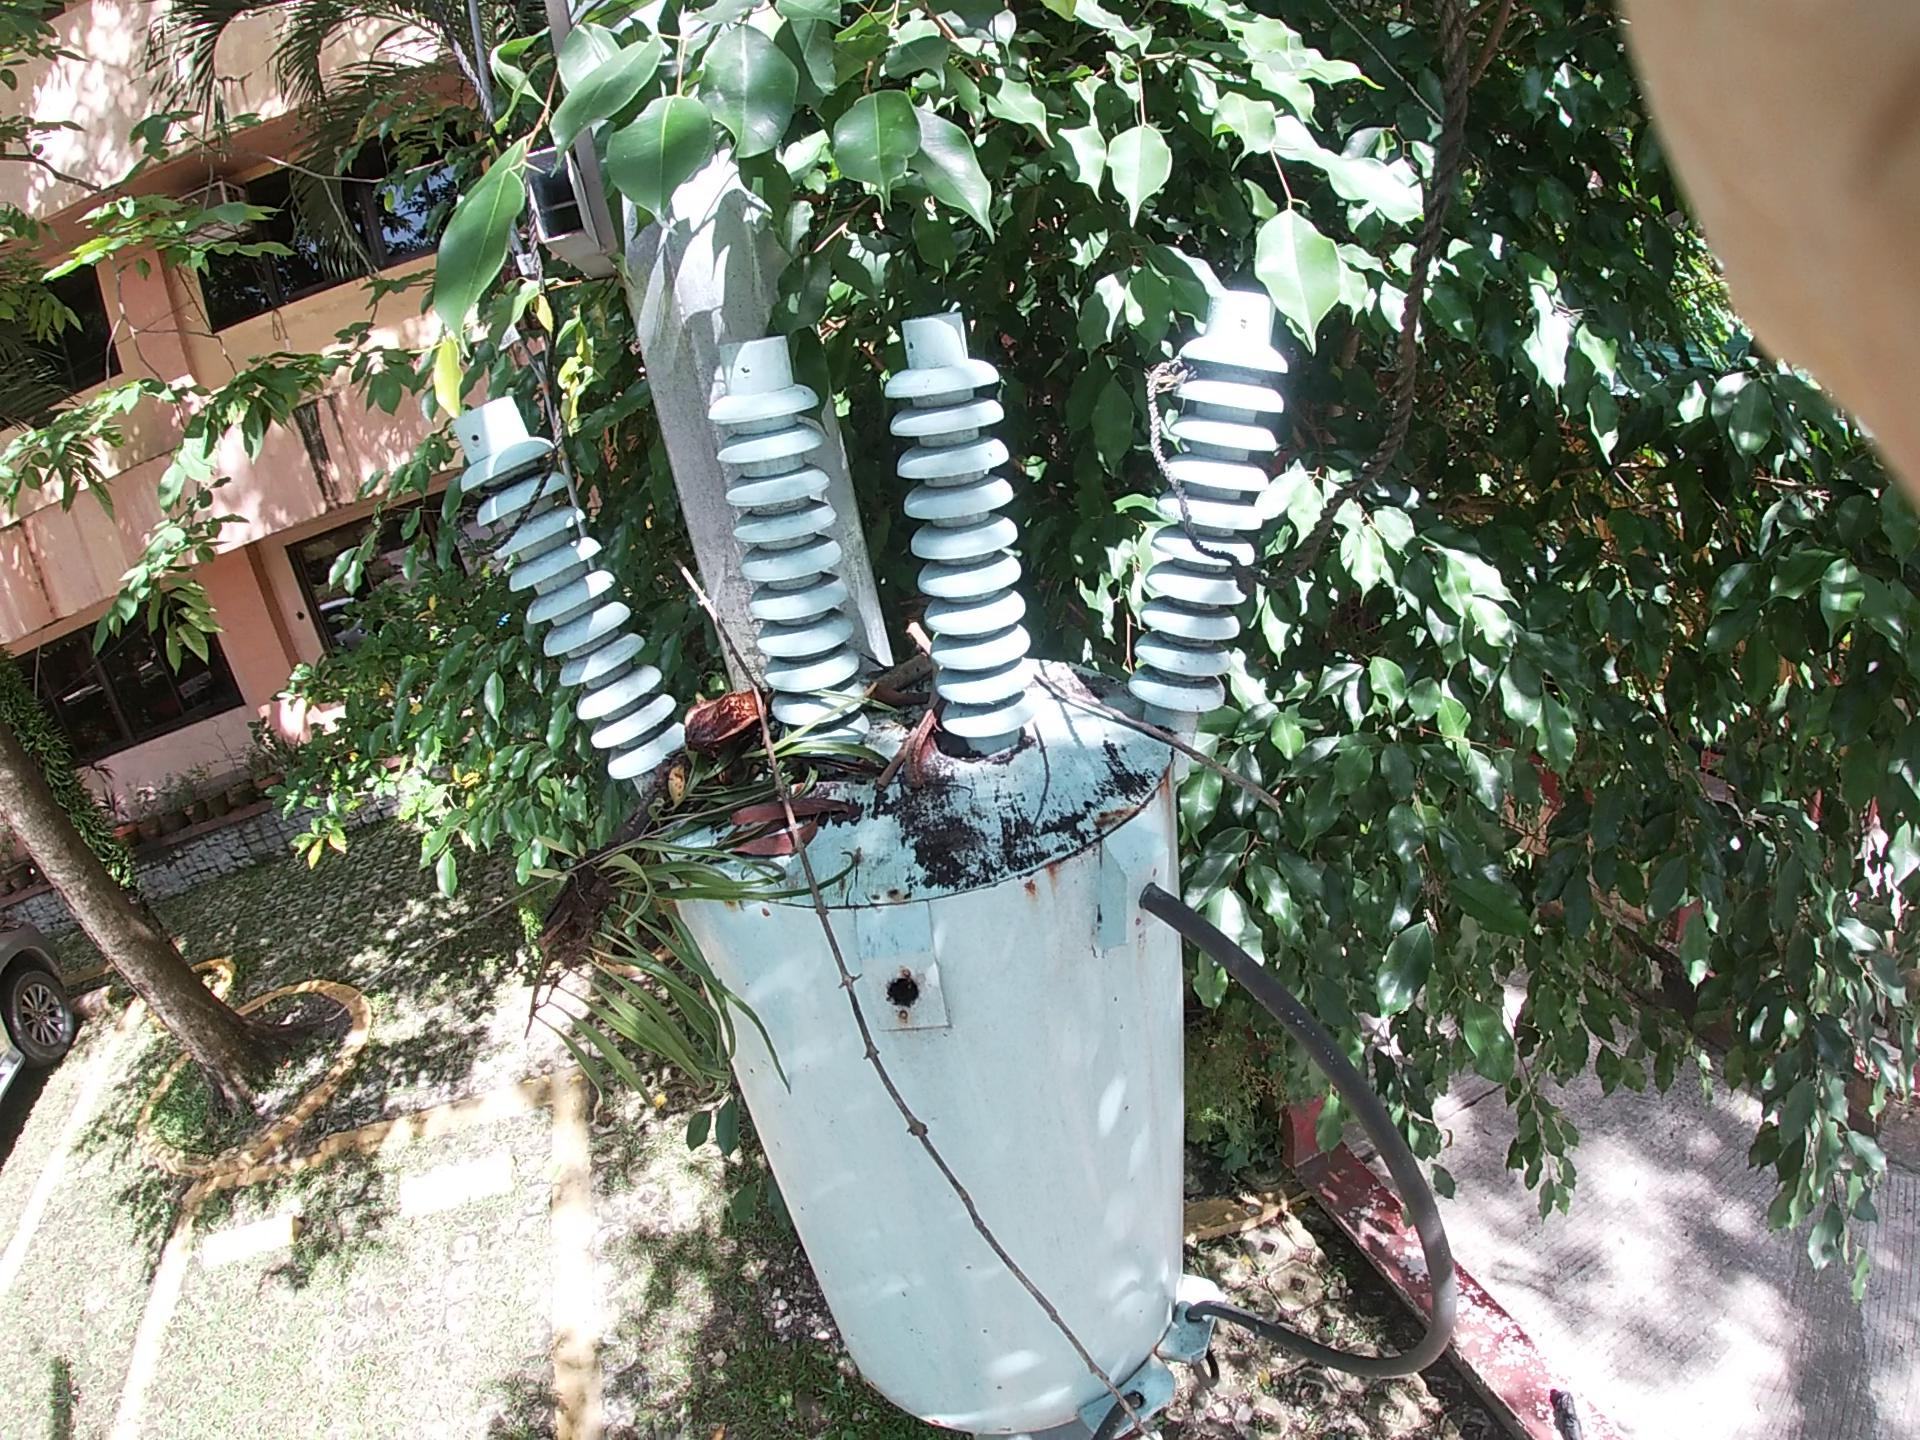branch with leaves: (466, 611, 900, 1110)
leaf: (717, 800, 901, 900)
mahogany fruit: (881, 646, 1014, 791), (697, 656, 797, 800)
tree branch: (680, 582, 1011, 1234), (1001, 620, 1259, 843), (841, 569, 1017, 871)
